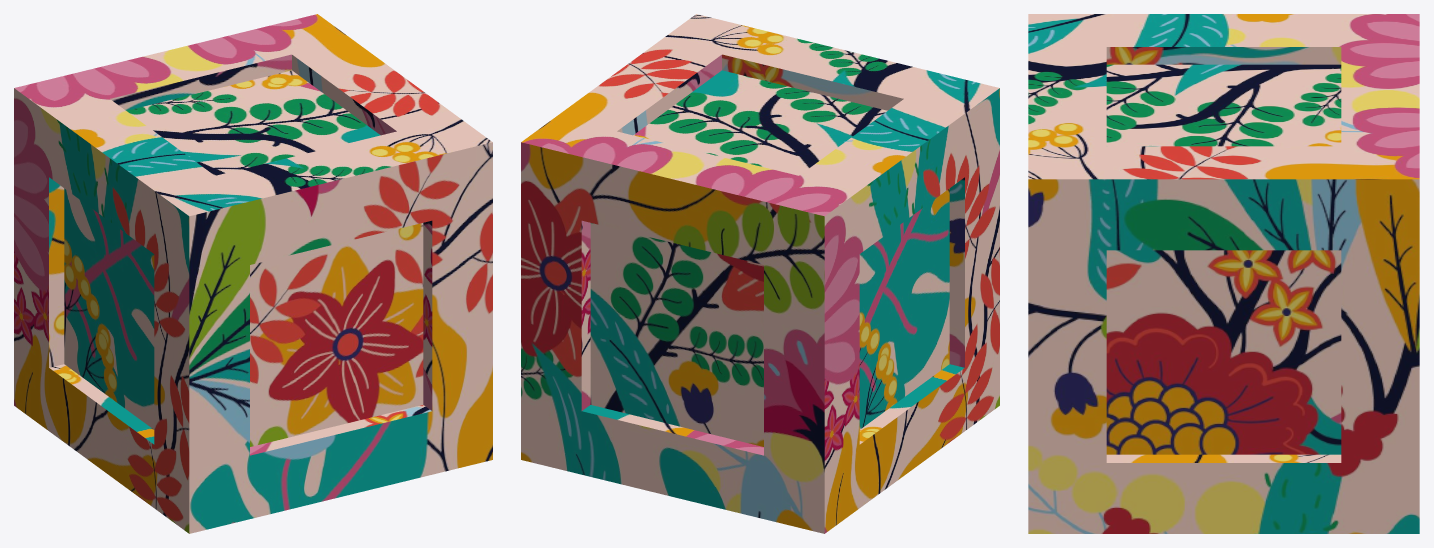
Rendered from Power-Up.fbx.
3 views of the same model, side by side, from view 1: azimuth 30°, elevation 25°; view 2: azimuth 150°, elevation 25°; view 3: azimuth 270°, elevation 25° (orthographic). The views are drawn at different scales.
Visible parts, largest first — view 1: Cube; view 2: Cube; view 3: Cube.
Part boxes in pixels (left/top/right/bottom): Cube: left=14, top=14, right=492, bottom=533; Cube: left=521, top=14, right=999, bottom=533; Cube: left=1028, top=14, right=1419, bottom=533.
Bounding box in the file's own units: 200 × 200 × 200.
